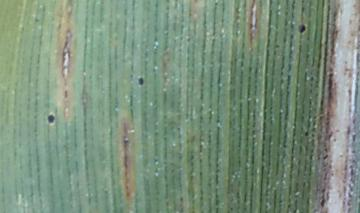tarspot: (319, 186, 328, 208), (45, 112, 56, 125), (296, 22, 307, 35), (136, 75, 145, 87), (321, 152, 329, 161), (303, 129, 310, 137)
